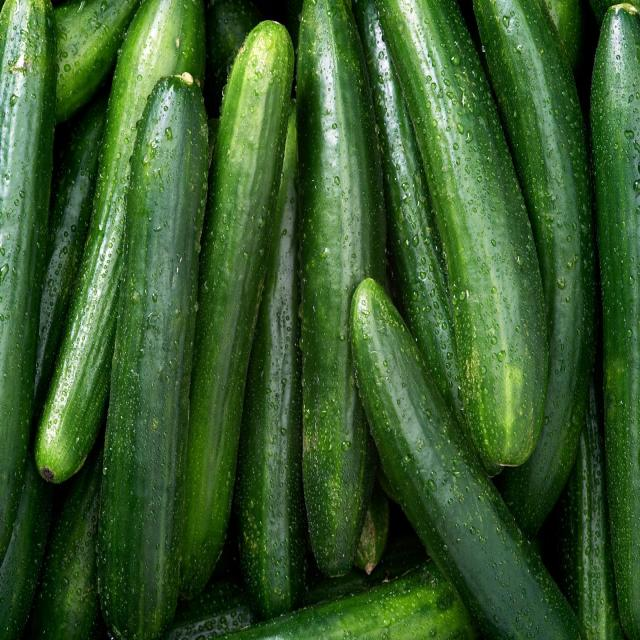Pickle: (350, 278, 579, 638), (35, 0, 205, 482), (379, 0, 548, 467), (180, 22, 294, 598), (475, 0, 595, 535), (99, 75, 208, 638), (354, 0, 471, 441), (298, 0, 385, 575), (235, 107, 305, 618), (590, 5, 640, 638), (34, 95, 108, 418), (218, 562, 478, 640), (30, 448, 102, 638), (55, 0, 138, 122)
